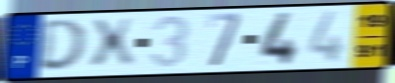3: (149, 13, 195, 71)
4: (258, 10, 301, 67), (307, 9, 349, 66)
7: (205, 11, 242, 70)
D: (36, 18, 89, 74)
X: (88, 16, 137, 72)
